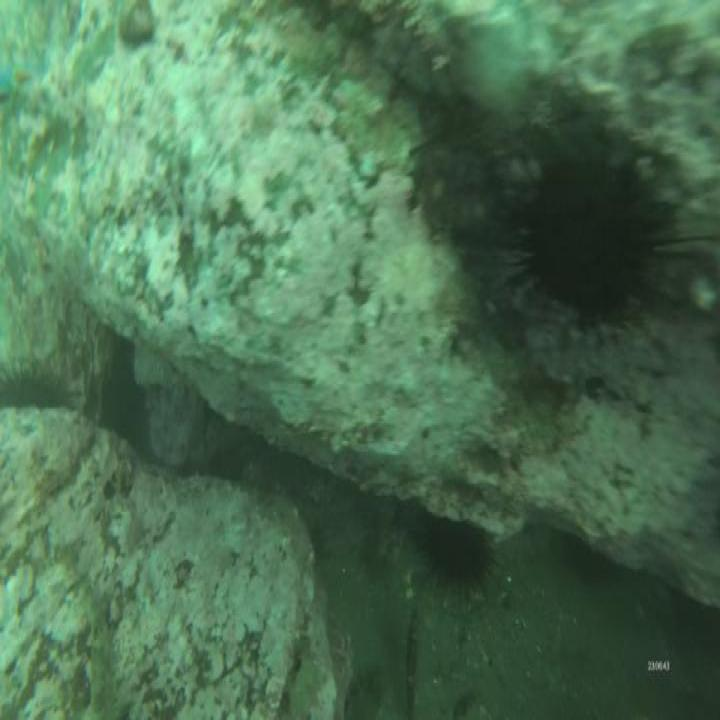echinus: (519, 137, 662, 332), (416, 505, 492, 603)
starfish: (0, 57, 42, 105)
